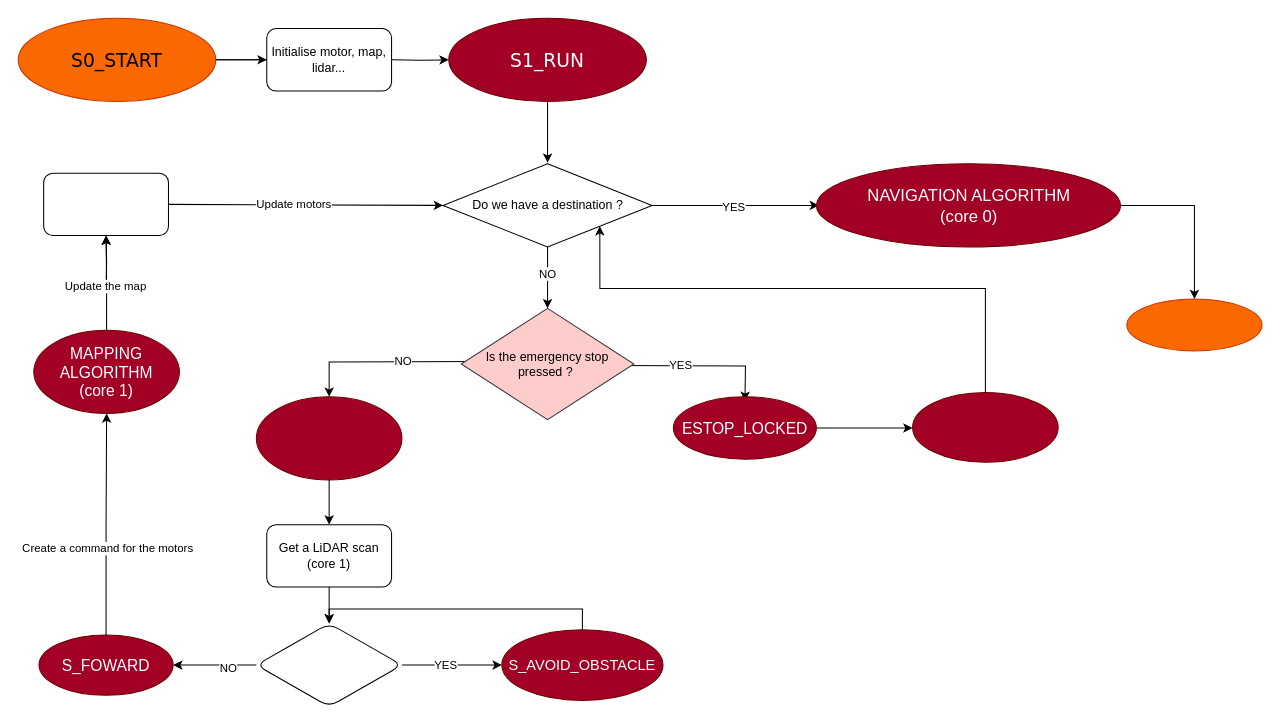
This 1280x725 diagram has some shape labels left out. The shapes that lost their labels are listed below. From the top down, each one's box as (x1, y1, x2, y2) in pixels, then its label:
(43, 172, 168, 236): Send the updated map to the webapp
(1126, 298, 1262, 351): END
(255, 396, 402, 480): AUTO (exploration algo)
(912, 392, 1058, 462): MANUAL MODE
(255, 622, 402, 707): Is a wall detected ?
